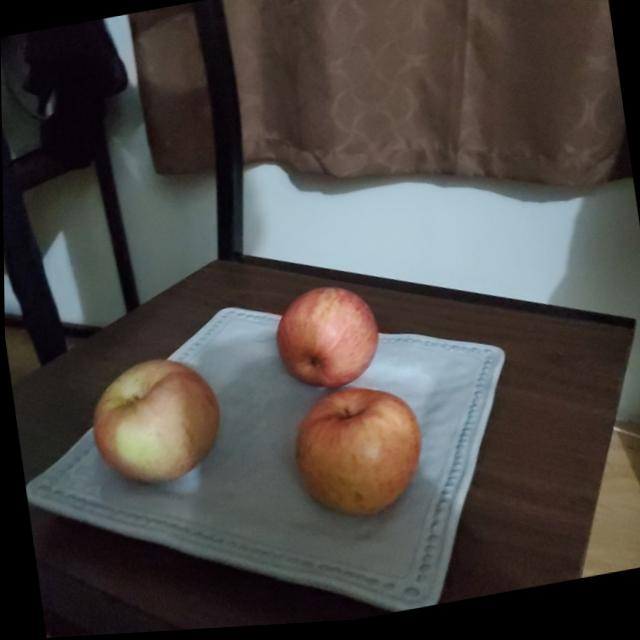apple: (288, 376, 429, 528), (85, 353, 228, 496), (270, 280, 387, 402)
